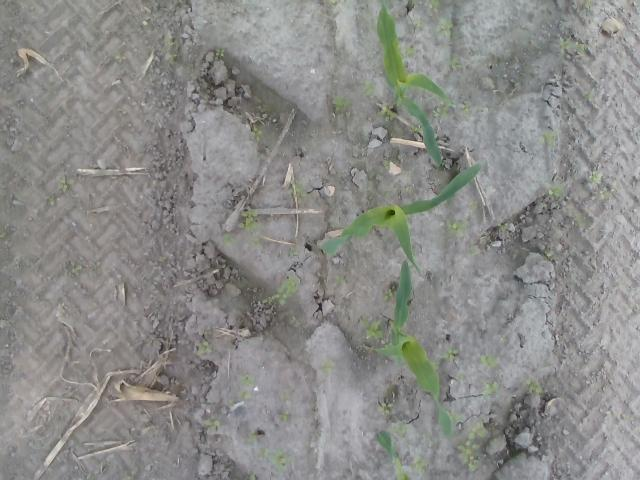Maize: (320, 160, 481, 273), (374, 258, 454, 440), (374, 4, 450, 167), (376, 429, 409, 480)
Weeds: (457, 421, 486, 472), (428, 0, 453, 40), (262, 275, 296, 304), (358, 317, 384, 339), (241, 206, 262, 232), (444, 218, 470, 236), (412, 456, 431, 480), (560, 34, 584, 50), (273, 450, 289, 472), (484, 382, 502, 401), (333, 94, 353, 108), (55, 175, 70, 193), (448, 52, 462, 70), (392, 424, 408, 439), (434, 104, 449, 120), (379, 103, 394, 118), (203, 416, 220, 429), (196, 340, 213, 352), (363, 79, 375, 96), (321, 360, 334, 375), (380, 402, 395, 415), (479, 355, 496, 366), (252, 125, 264, 140), (383, 288, 394, 304), (244, 433, 257, 446), (544, 130, 556, 144), (528, 382, 543, 393), (291, 181, 304, 192), (240, 374, 254, 384), (550, 184, 561, 196), (445, 350, 457, 361), (238, 390, 252, 398), (278, 411, 288, 422), (334, 275, 344, 285), (215, 48, 226, 57), (590, 171, 600, 180), (499, 222, 508, 230), (407, 47, 415, 56), (464, 104, 472, 112)
